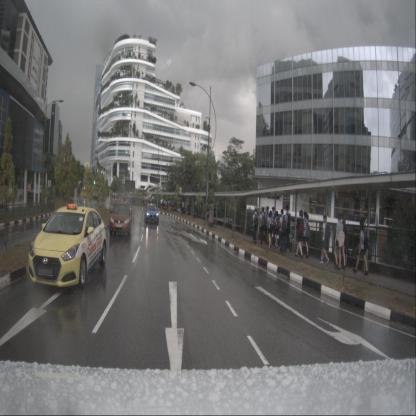human-pedestrian-adult: (355, 220, 369, 276), (335, 212, 348, 270), (334, 213, 345, 271), (298, 212, 310, 258), (320, 214, 330, 264), (295, 210, 304, 259), (284, 206, 292, 254), (279, 209, 286, 254), (259, 206, 267, 244), (252, 208, 259, 244), (267, 210, 273, 248), (264, 206, 270, 244), (274, 211, 280, 248), (270, 206, 275, 245), (179, 200, 182, 216), (168, 198, 171, 212), (165, 199, 168, 211), (182, 200, 184, 215), (172, 198, 174, 211), (160, 198, 162, 210), (164, 198, 166, 210), (150, 196, 152, 206), (148, 197, 150, 206)
vehicle-car: (29, 204, 107, 288), (110, 201, 132, 236), (144, 203, 159, 225)
